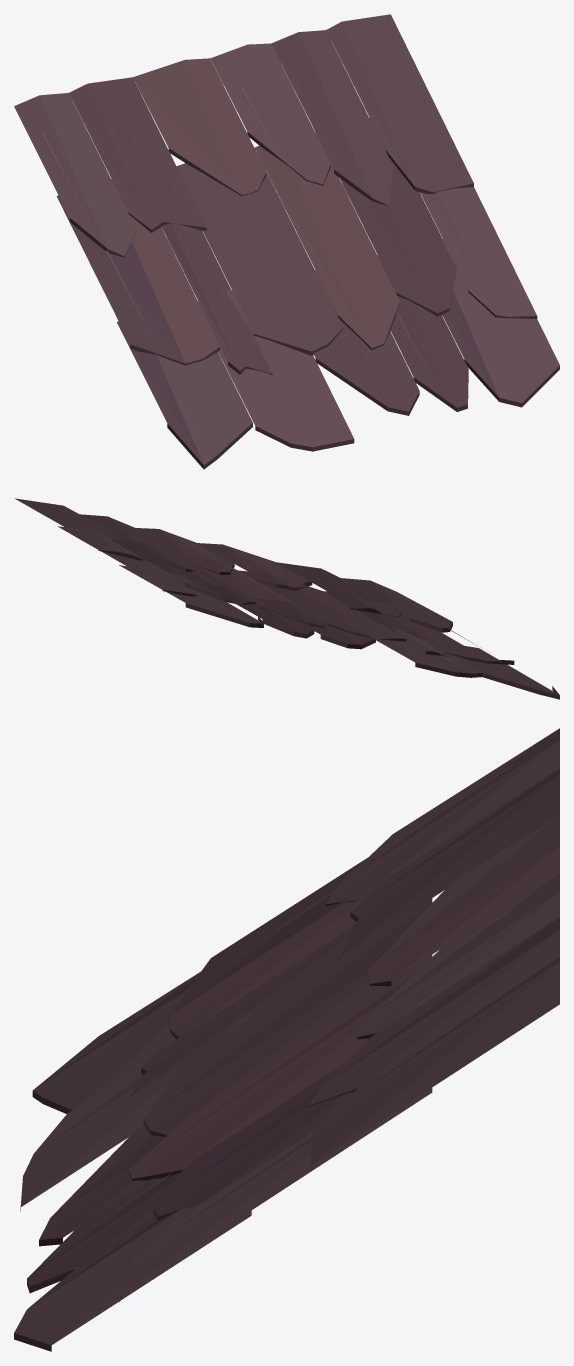
The model's file is ShortEave17.glb.
3 views of the same model, one above another, from view 1: azimuth 30°, elevation 25°; view 2: azimuth 150°, elevation 25°; view 3: azimuth 270°, elevation 25° (orthographic). The views are drawn at different scales.
Visible parts, largest first — view 1: ShortEave17; view 2: ShortEave17; view 3: ShortEave17.
Part boxes in pixels (left/top/right/bottom): ShortEave17: left=14, top=14, right=559, bottom=469; ShortEave17: left=14, top=498, right=559, bottom=699; ShortEave17: left=14, top=728, right=559, bottom=1351.
Bounding box in the file's own units: 2.02 × 1.3 × 1.69.
